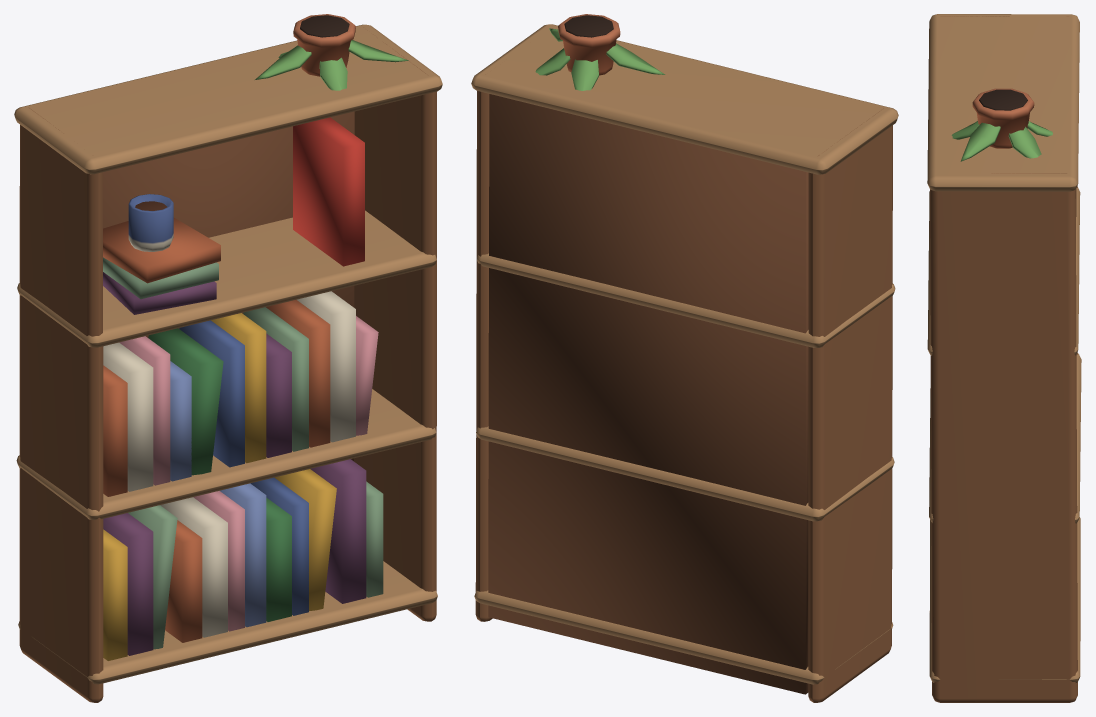
The model's file is bookshelf.glb.
3 views of the same model, side by side, from view 1: azimuth 30°, elevation 25°; view 2: azimuth 150°, elevation 25°; view 3: azimuth 270°, elevation 25° (orthographic). The views are drawn at different scales.
Parts seen in each view (by area): view 1: bookshelf, books, book_wobble, shelf_mug; view 2: bookshelf; view 3: bookshelf.
Boxes of the visible parts, box(x1,y1,x2,y2) form: bookshelf: box(14, 14, 442, 702); books: box(103, 217, 383, 660); book_wobble: box(293, 117, 364, 266); shelf_mug: box(128, 194, 173, 251); bookshelf: box(471, 14, 898, 702); bookshelf: box(927, 14, 1081, 702).
Size of the model in its own units: 0.8215 by 1.29 by 0.3169.
